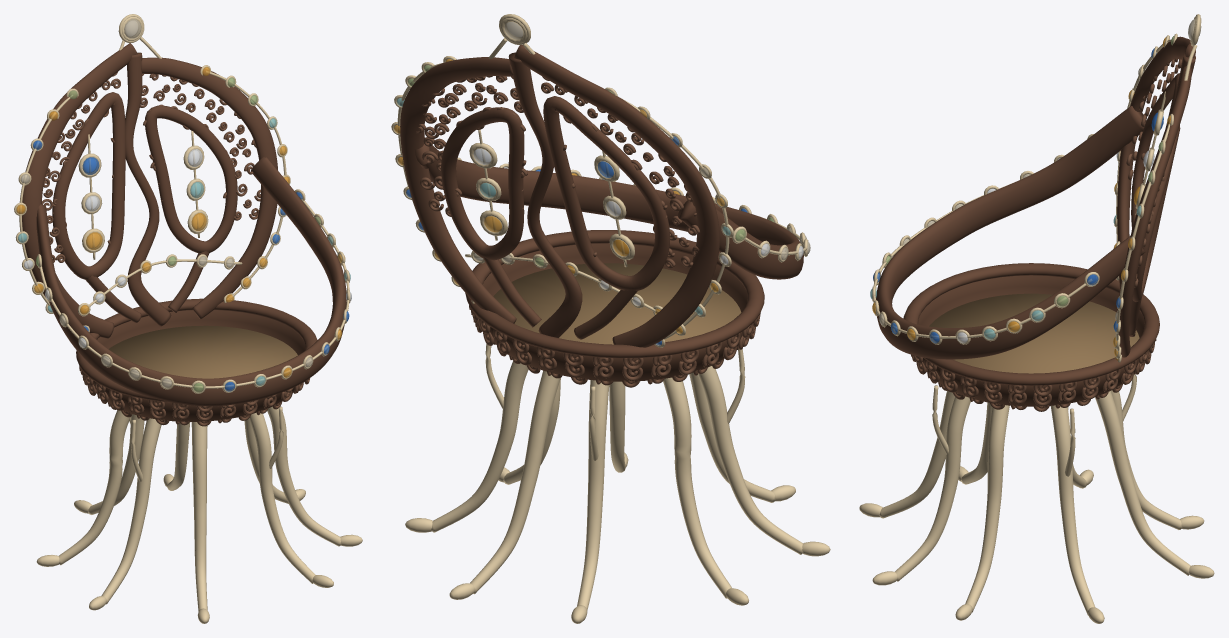
3 renders of one model, left to right at view 1: azimuth 30°, elevation 25°; view 2: azimuth 150°, elevation 25°; view 3: azimuth 270°, elevation 25°, orthographic. The views are drawn at different scales.
Visible parts, largest first — view 1: Backrest_Ribbon_Frame, Curved_Gold_Legs, Sweeping_Arm_Ribbon, Gilded_Seat_Pan, Carved_Filigree_Scrolls, Gold_Gem_Bezels, Seat_Bowl_Shell, Gold_Jewel_Chains, Seat_Rim_Band, Gold_Teardrop_Feet, Gemstones_Amber_Orange, Gemstones_Smoky_Champagne (+3 smaller); view 2: Backrest_Ribbon_Frame, Curved_Gold_Legs, Carved_Filigree_Scrolls, Sweeping_Arm_Ribbon, Gilded_Seat_Pan, Seat_Rim_Band, Gold_Gem_Bezels, Seat_Bowl_Shell, Gold_Jewel_Chains, Gold_Teardrop_Feet, Gemstones_Amber_Orange, Gemstones_Clear_Crystal (+1 smaller); view 3: Curved_Gold_Legs, Sweeping_Arm_Ribbon, Backrest_Ribbon_Frame, Gilded_Seat_Pan, Seat_Rim_Band, Seat_Bowl_Shell, Carved_Filigree_Scrolls, Gold_Gem_Bezels, Gold_Jewel_Chains, Gold_Teardrop_Feet, Gemstones_Amber_Orange, Gemstones_Sapphire_Blue.
Boxes of the visible parts, box(x1,y1,x2,y2) form: Backrest_Ribbon_Frame: box(22, 43, 277, 338); Curved_Gold_Legs: box(59, 406, 341, 611); Sweeping_Arm_Ribbon: box(36, 157, 346, 406); Gilded_Seat_Pan: box(109, 325, 297, 378); Carved_Filigree_Scrolls: box(42, 72, 309, 426); Gold_Gem_Bezels: box(14, 17, 350, 393); Seat_Bowl_Shell: box(93, 310, 305, 421); Gold_Jewel_Chains: box(19, 14, 349, 388); Seat_Rim_Band: box(76, 298, 317, 402); Gold_Teardrop_Feet: box(36, 474, 362, 623); Gemstones_Amber_Orange: box(16, 67, 345, 377); Gemstones_Smoky_Champagne: box(20, 19, 312, 388); Backrest_Ribbon_Frame: box(400, 45, 719, 347); Curved_Gold_Legs: box(431, 344, 803, 610); Carved_Filigree_Scrolls: box(416, 76, 760, 387); Sweeping_Arm_Ribbon: box(414, 137, 803, 279); Gilded_Seat_Pan: box(493, 263, 741, 344); Seat_Rim_Band: box(465, 230, 764, 358); Gold_Gem_Bezels: box(391, 18, 808, 347); Seat_Bowl_Shell: box(478, 243, 747, 381); Gold_Jewel_Chains: box(397, 14, 806, 339); Gold_Teardrop_Feet: box(405, 452, 830, 623); Gemstones_Amber_Orange: box(394, 59, 724, 333); Gemstones_Clear_Crystal: box(473, 148, 803, 305); Curved_Gold_Legs: box(879, 374, 1190, 615); Sweeping_Arm_Ribbon: box(876, 106, 1146, 359); Backrest_Ribbon_Frame: box(1117, 36, 1195, 357); Gilded_Seat_Pan: box(929, 293, 1139, 373); Seat_Rim_Band: box(903, 263, 1159, 385); Seat_Bowl_Shell: box(918, 275, 1144, 406); Carved_Filigree_Scrolls: box(911, 58, 1182, 411); Gold_Gem_Bezels: box(872, 16, 1201, 362); Gold_Jewel_Chains: box(873, 14, 1200, 353); Gold_Teardrop_Feet: box(859, 466, 1214, 623); Gemstones_Amber_Orange: box(872, 37, 1170, 360); Gemstones_Sapphire_Blue: box(873, 48, 1163, 343).
Bounding box in the file's own units: 0.6092 × 1 × 0.5956.
